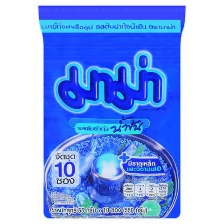snack: (30, 0, 192, 224)
